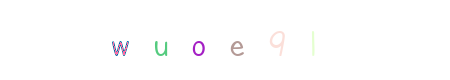9: (162, 0, 242, 80)
E: (158, 0, 238, 80)
L: (185, 0, 265, 80)
O: (121, 0, 201, 80)
U: (80, 0, 160, 80)
W: (80, 0, 160, 80)
